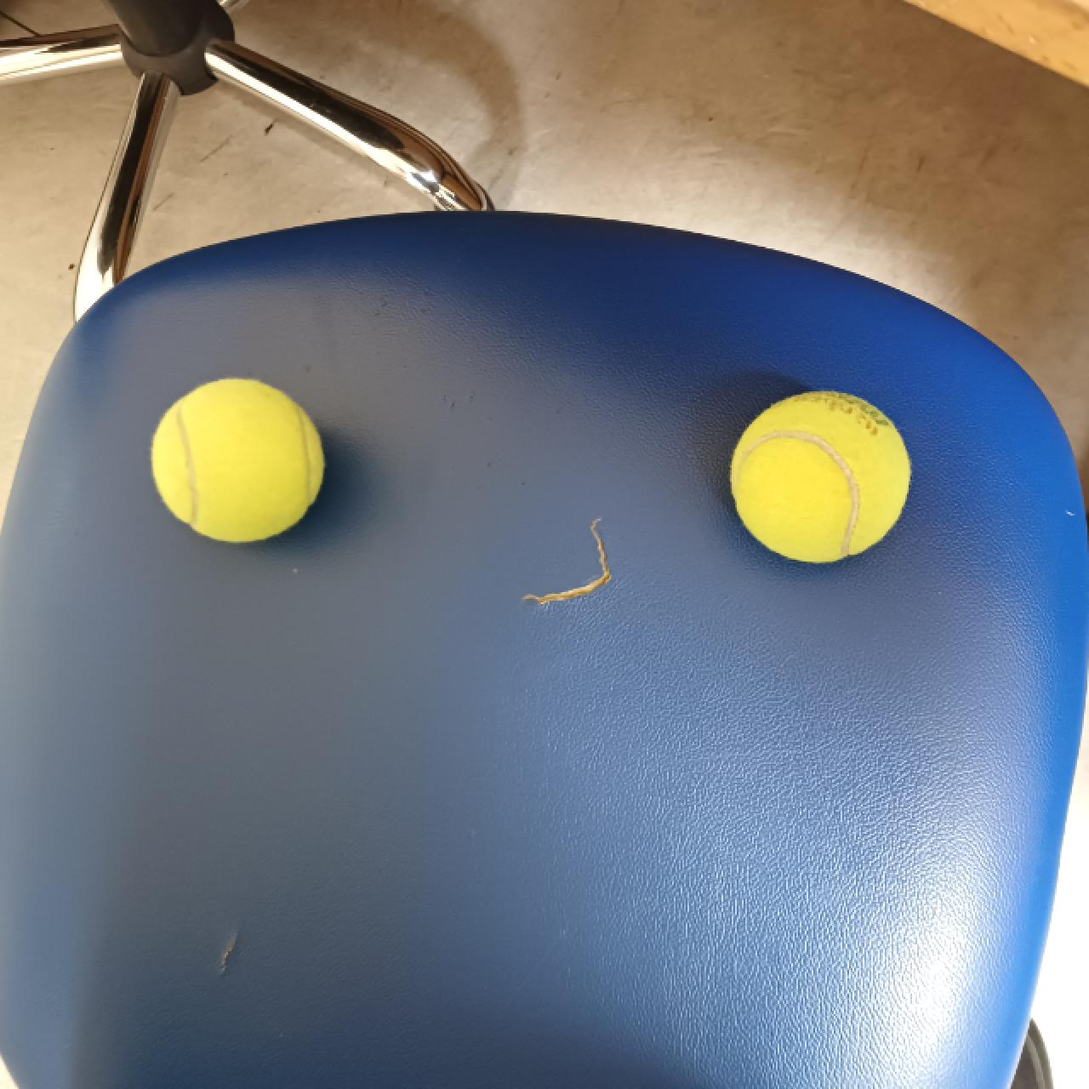tennis-ball: (727, 392, 909, 566), (150, 377, 325, 545)
